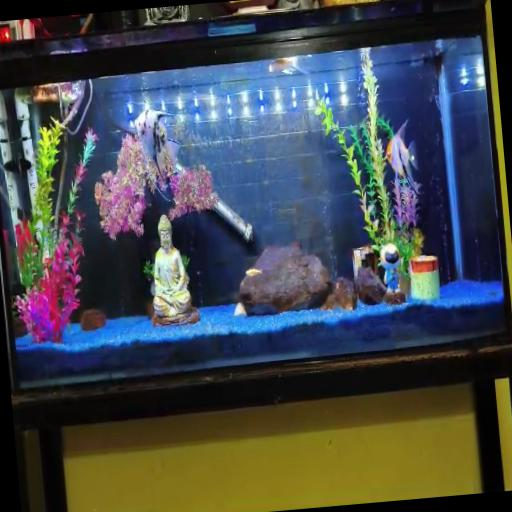Fish: (134, 109, 179, 175), (385, 120, 416, 188), (268, 58, 307, 75), (3, 158, 31, 174), (245, 268, 261, 277)
